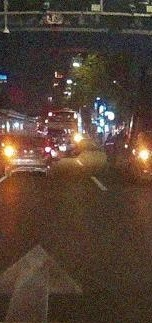L_light: (2, 148, 17, 156)
R_light: (40, 147, 51, 154)
T_light: (22, 135, 32, 139)
night-left: (2, 134, 53, 177)
